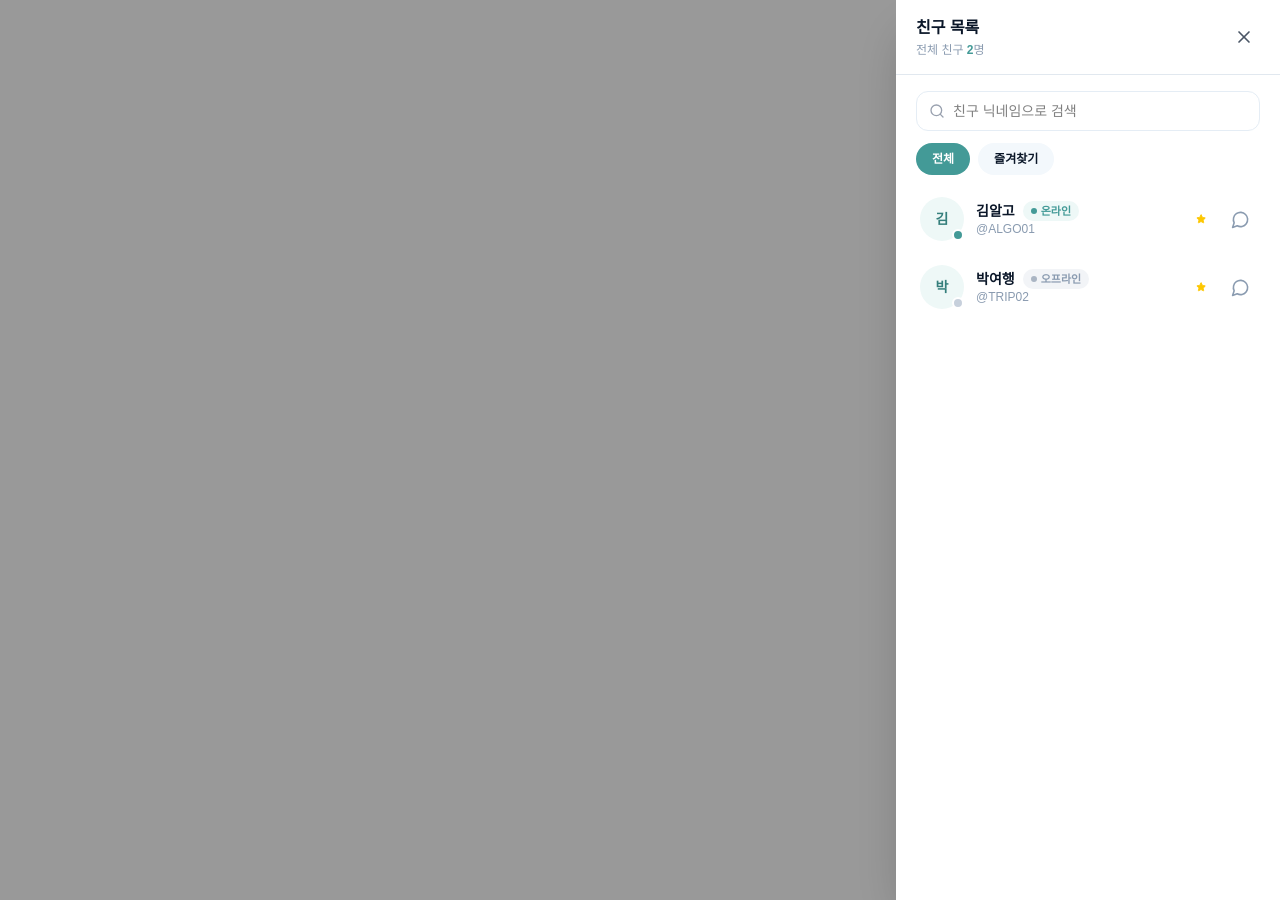
it: FriendPanel 컴포넌트 테스트 › 검색어로 친구를 필터링한다
Expected: the text "김알고" is shown, [976, 201, 1015, 221]
In the field with placeholder "친구 닉네임으로 검색": (1100, 111) [953, 101, 1247, 121], type "박여행"
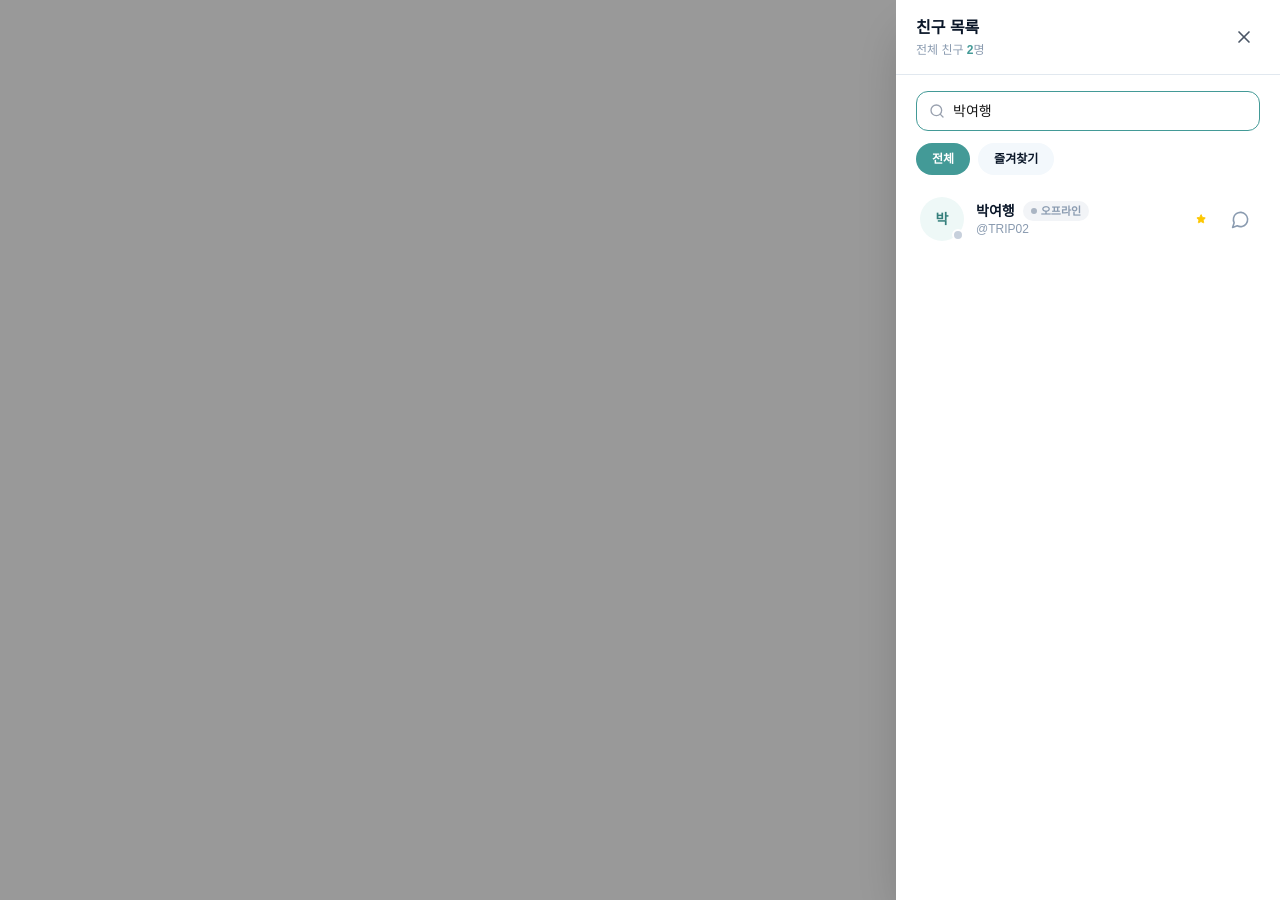
Expected: the text "박여행" is shown, [976, 201, 1015, 221]
Now the text "김알고" is gone
